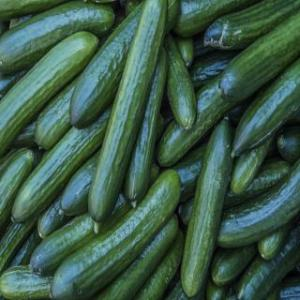cucumber: (86, 0, 168, 226), (49, 168, 183, 300), (0, 30, 100, 158), (11, 103, 109, 221), (68, 0, 146, 128), (180, 116, 232, 300), (0, 1, 114, 76), (215, 157, 299, 248), (218, 12, 300, 102), (232, 53, 300, 157), (125, 42, 168, 206), (204, 0, 300, 52), (164, 34, 198, 128)
